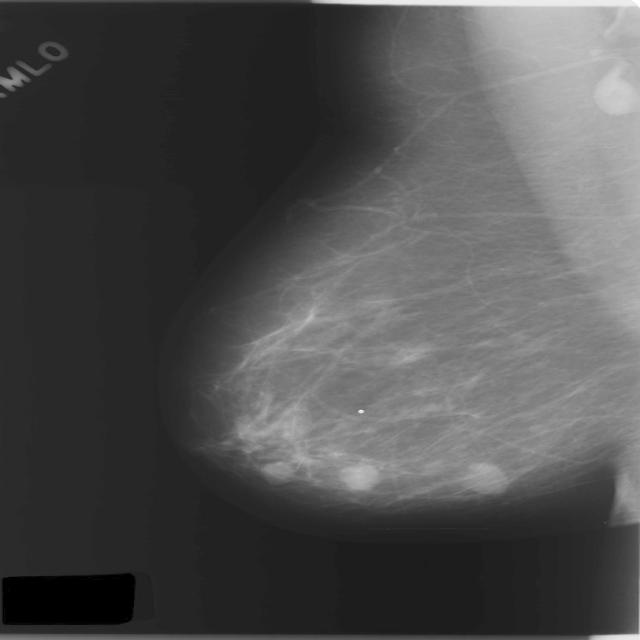tumour: (462, 462, 506, 495), (338, 462, 379, 491), (258, 460, 292, 484)
